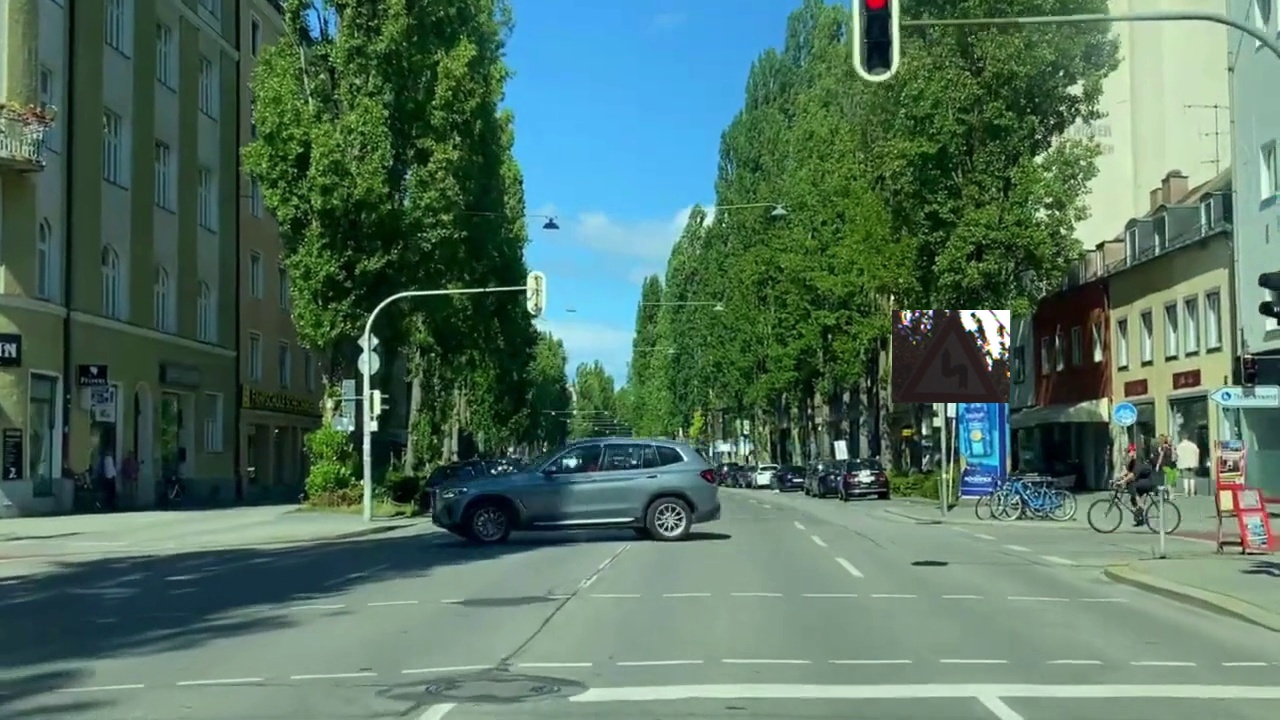Double curve: (892, 310, 1010, 403)
